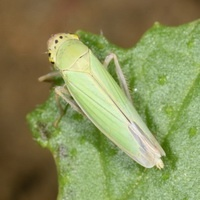insect: (48, 33, 164, 167)
